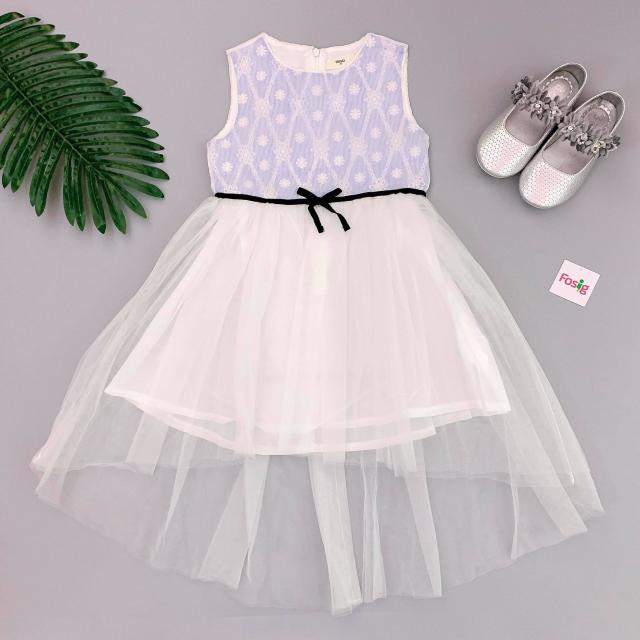clothes: (86, 29, 595, 605)
